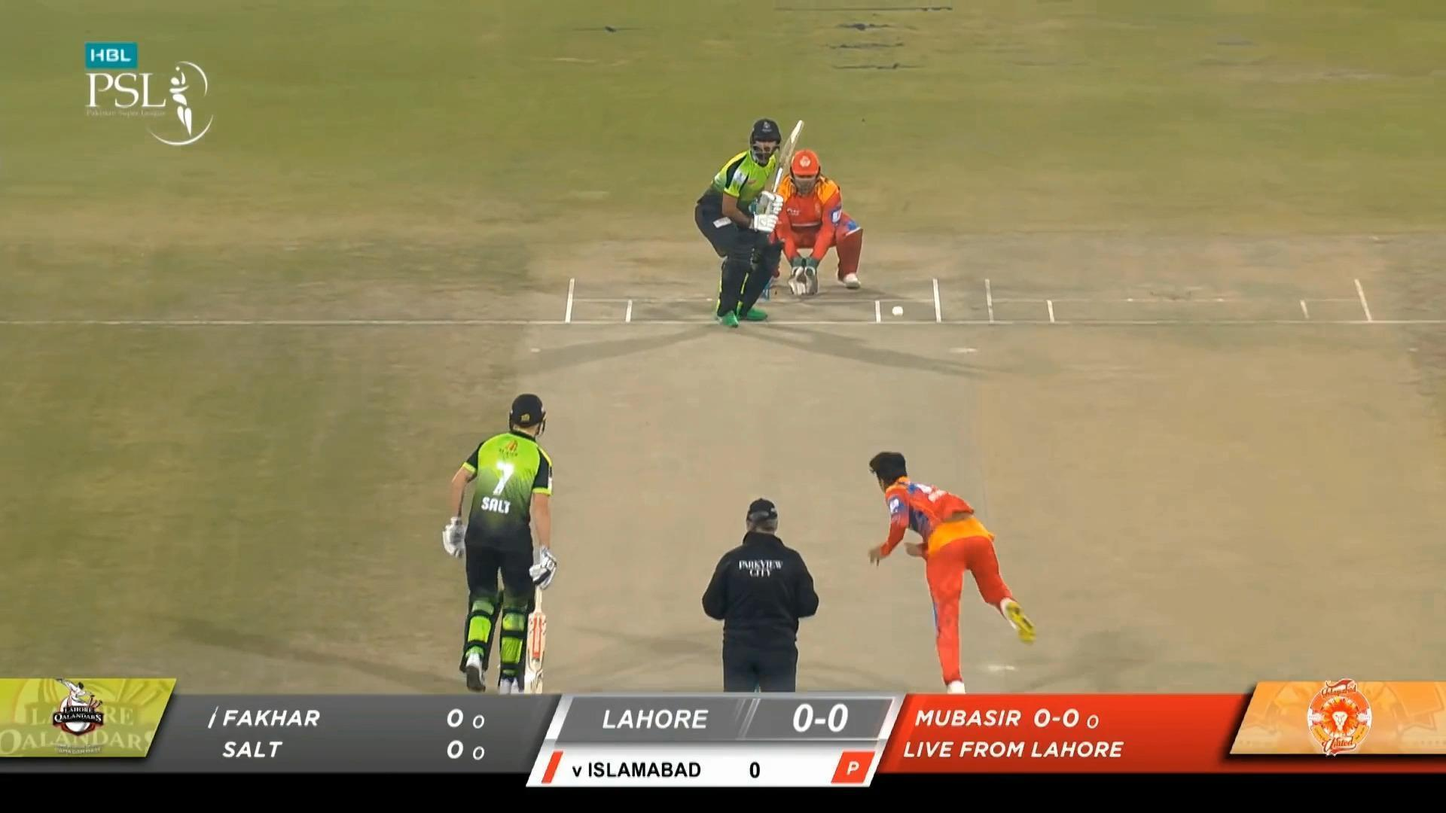BM 1: (693, 118, 808, 329)
BO: (866, 449, 1040, 694)
